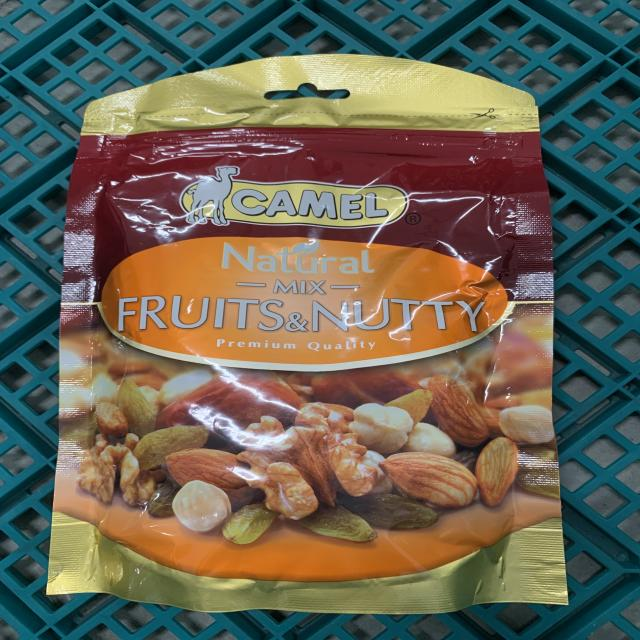object_name: (79, 85, 553, 594)
